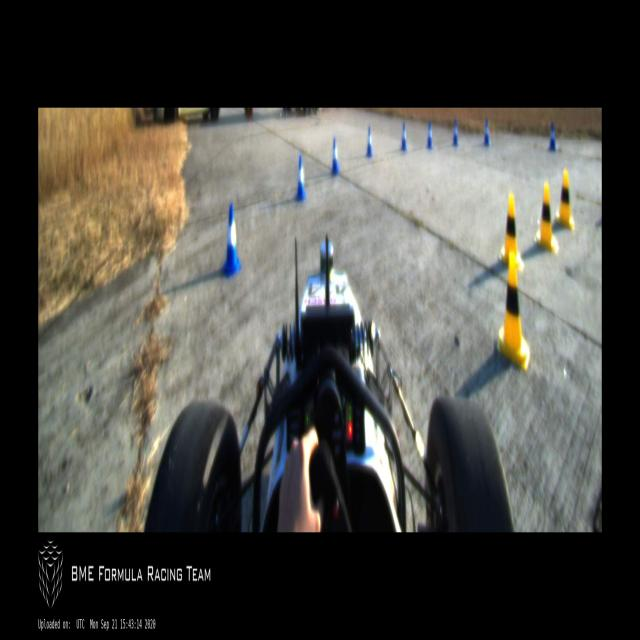blue_cone: (223, 207, 241, 274), (296, 157, 306, 199), (548, 122, 557, 150), (332, 139, 339, 172), (366, 128, 373, 155), (426, 122, 433, 146), (484, 120, 491, 143), (401, 123, 407, 149), (453, 120, 459, 144)
yellow_cone: (497, 254, 530, 368), (500, 194, 524, 270), (536, 184, 558, 252), (556, 169, 576, 230)
